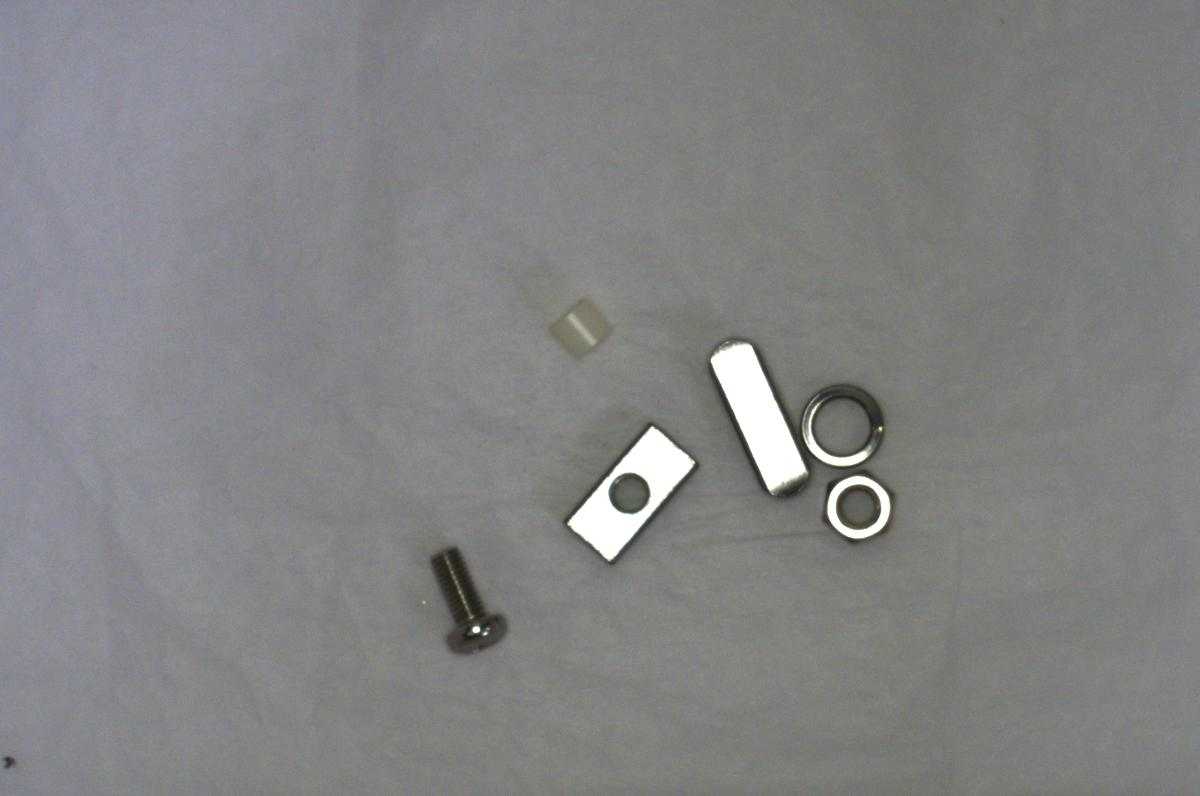Hexagon nut: (819, 473, 897, 547)
Keybar: (702, 329, 814, 498)
Plastic cushion pillar: (547, 295, 613, 365)
Rectangular nut: (554, 416, 693, 561)
Round head screw: (424, 541, 507, 667)
Spring washer: (800, 379, 888, 467)
